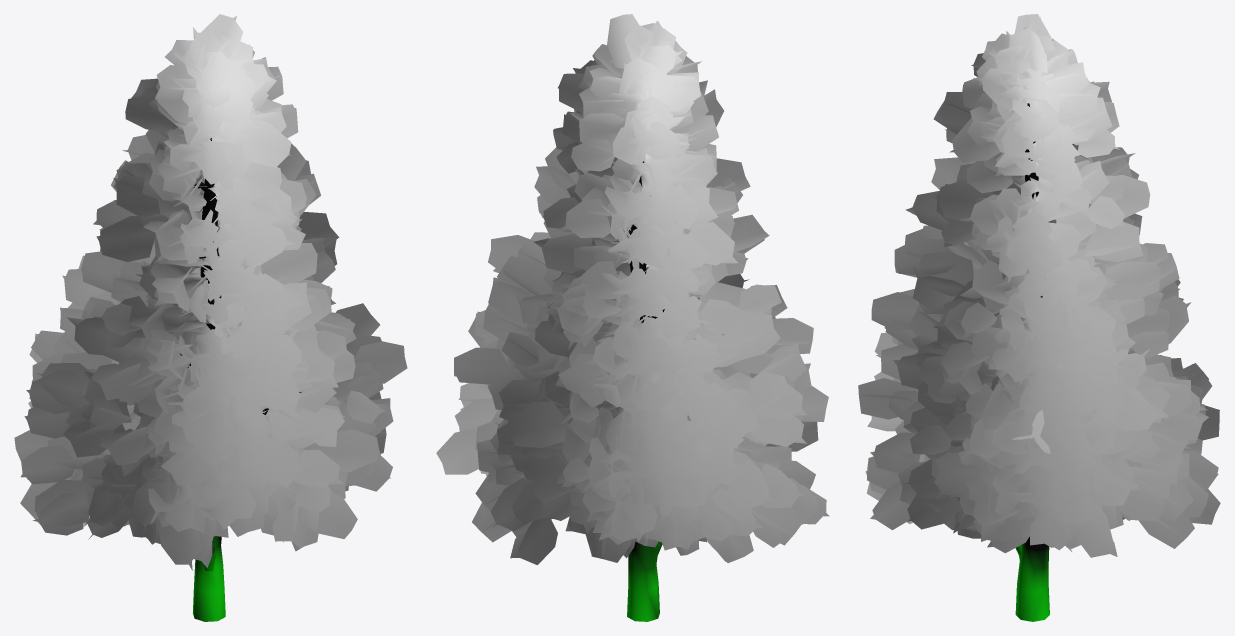
The model's file is SM_FirTree4.FBX.
3 renders of one model, left to right at view 1: azimuth 30°, elevation 25°; view 2: azimuth 150°, elevation 25°; view 3: azimuth 270°, elevation 25°, orthographic.
Visible parts, largest first — view 1: SM_FirTree4; view 2: SM_FirTree4; view 3: SM_FirTree4.
Boxes of the visible parts, x1,y1,x2,y2 form: SM_FirTree4: (14, 14, 407, 621); SM_FirTree4: (436, 14, 829, 621); SM_FirTree4: (858, 14, 1220, 621).
Size of the model in its own units: 2091 by 1850 by 3393.
